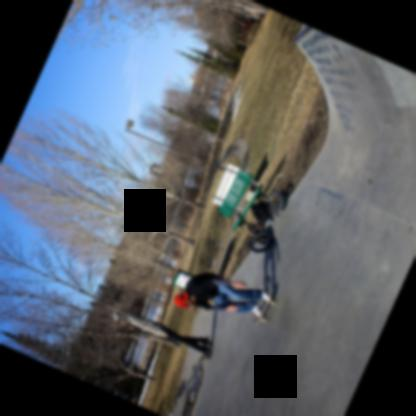backpack: (250, 199, 271, 220)
